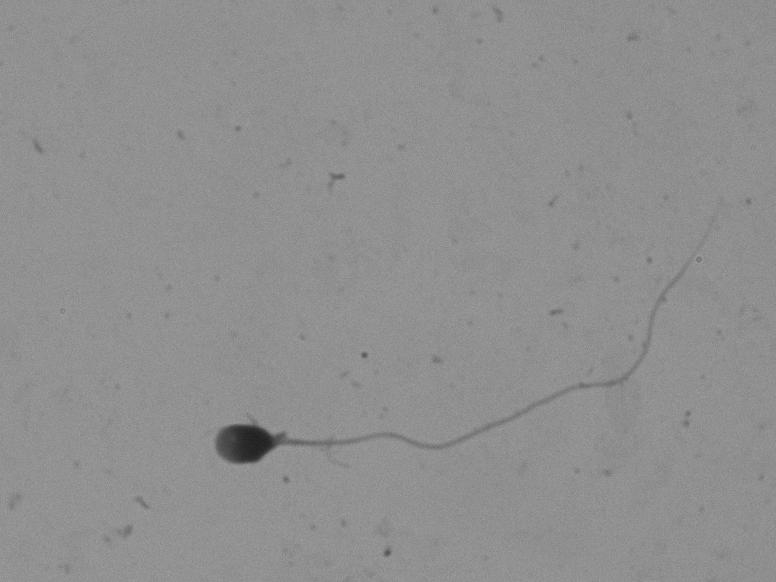Normal: (168, 175, 733, 496)
